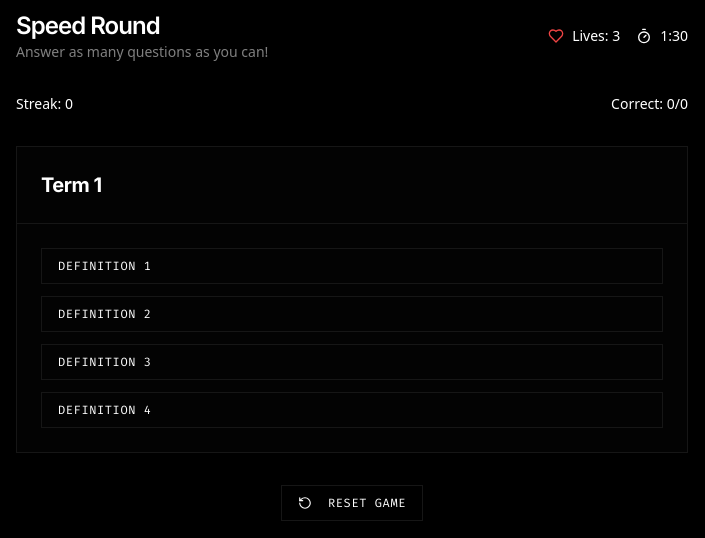
it: SpeedRoundGame › submits a wrong answer and loses a life
What coordinates should you click on to do the following:
click the button "Definition 2"
I would click on:
 (105, 314)
Its box is [41, 296, 663, 332].
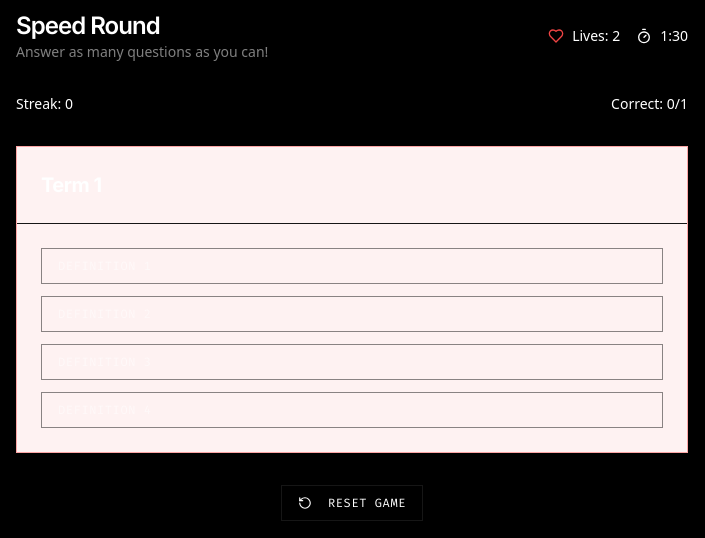
expect the text "Lives: 2" is shown: met, box [572, 26, 620, 46]
